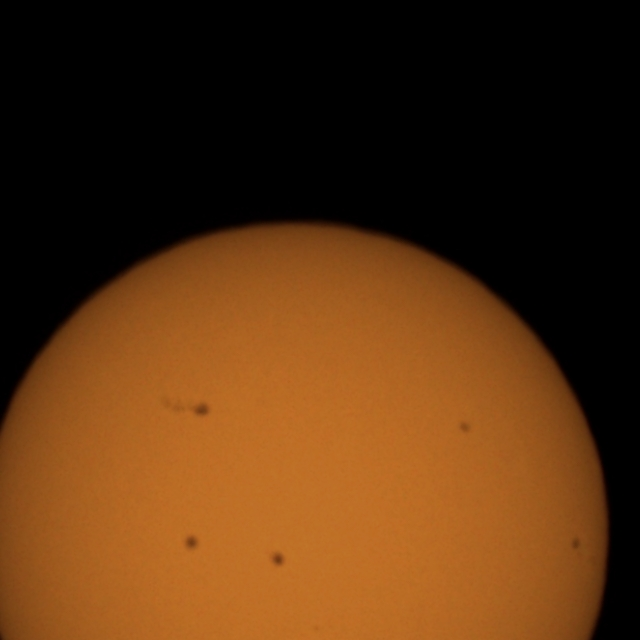sunspot: (160, 395, 212, 419), (189, 400, 212, 419), (182, 532, 201, 554), (268, 549, 287, 570), (457, 419, 473, 436), (570, 534, 582, 552)
